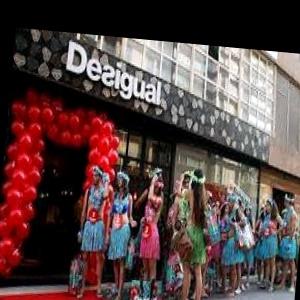desigual: (149, 82, 202, 91)
